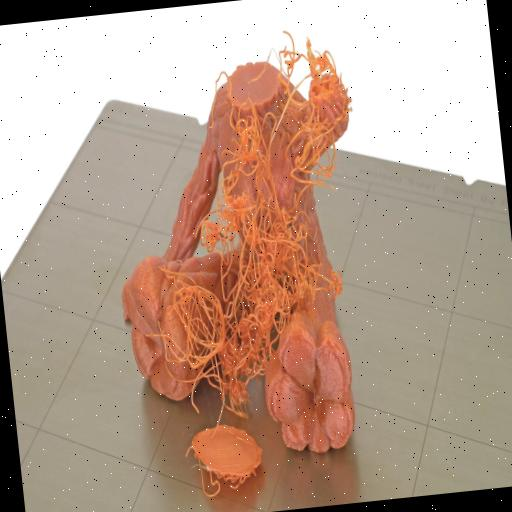spaghetti: (139, 24, 388, 424)
